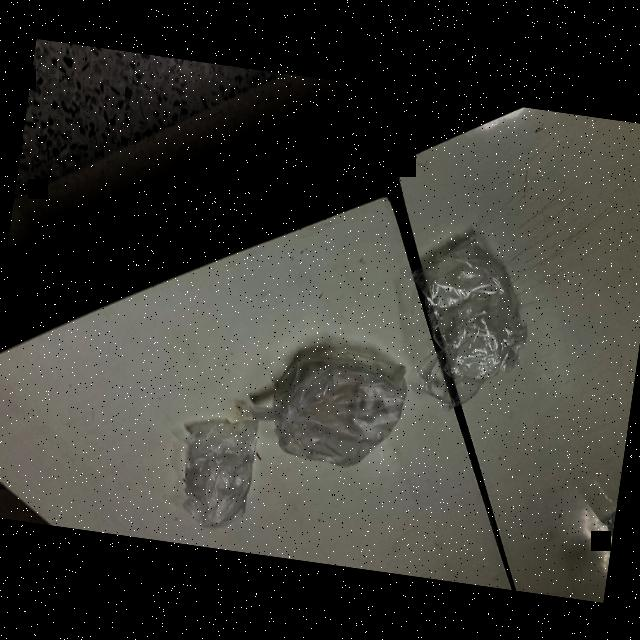plastic_bag: (411, 226, 545, 408), (256, 332, 417, 473), (163, 408, 269, 536)
